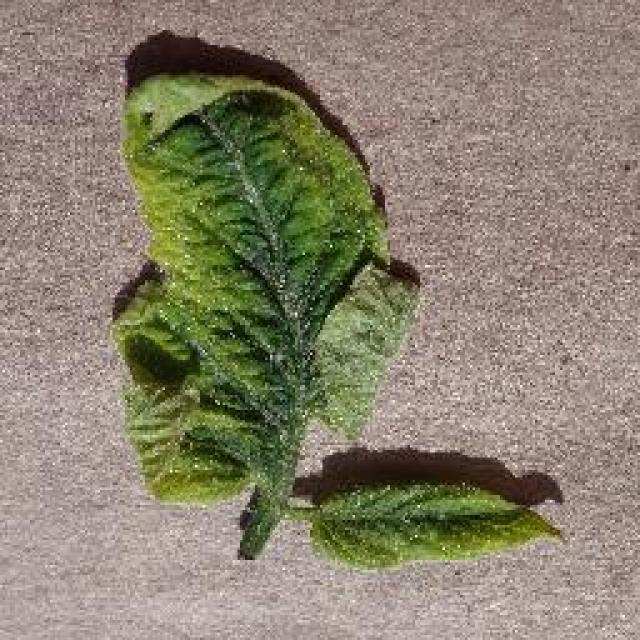Tom_Yellow_Leaf_Curl_Virus: (110, 78, 410, 498)
